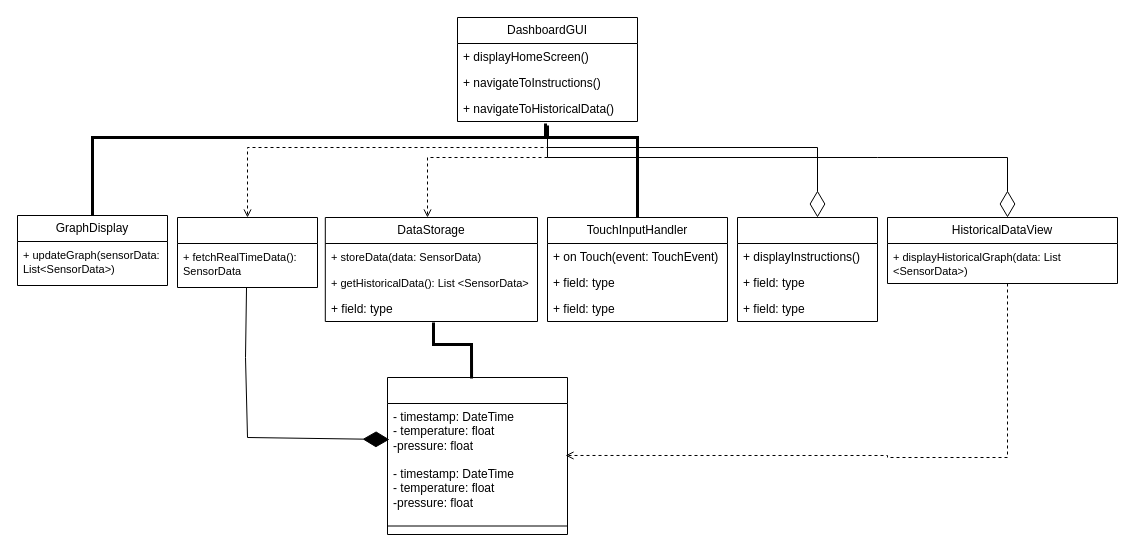
Some shapes in this 1135 by 552 pixel diagram are drawn without their labels. The box of each missing label's shape, as (x1, y1, x2, y2) in pixels:
InstructionView: (736, 216, 878, 322)
SensorData: (386, 376, 568, 534)
SesnorDataFetcher: (176, 216, 318, 288)
